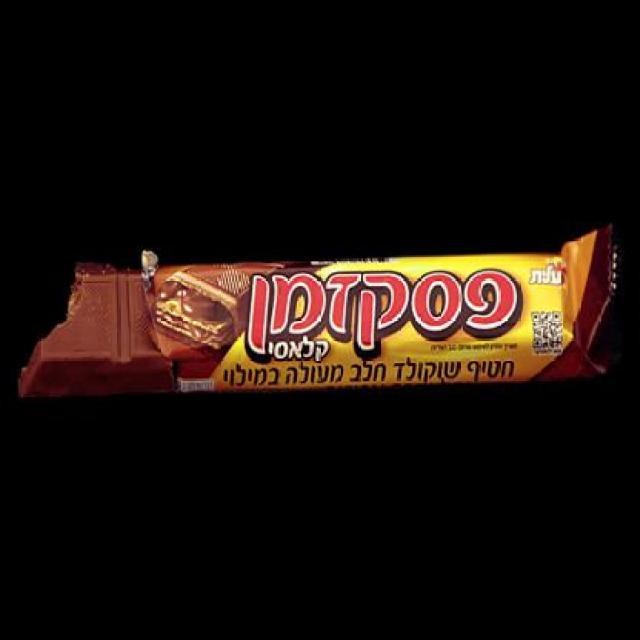Chocolate bar: (142, 232, 622, 392)
Chocolate bar packaged: (16, 253, 142, 398)
